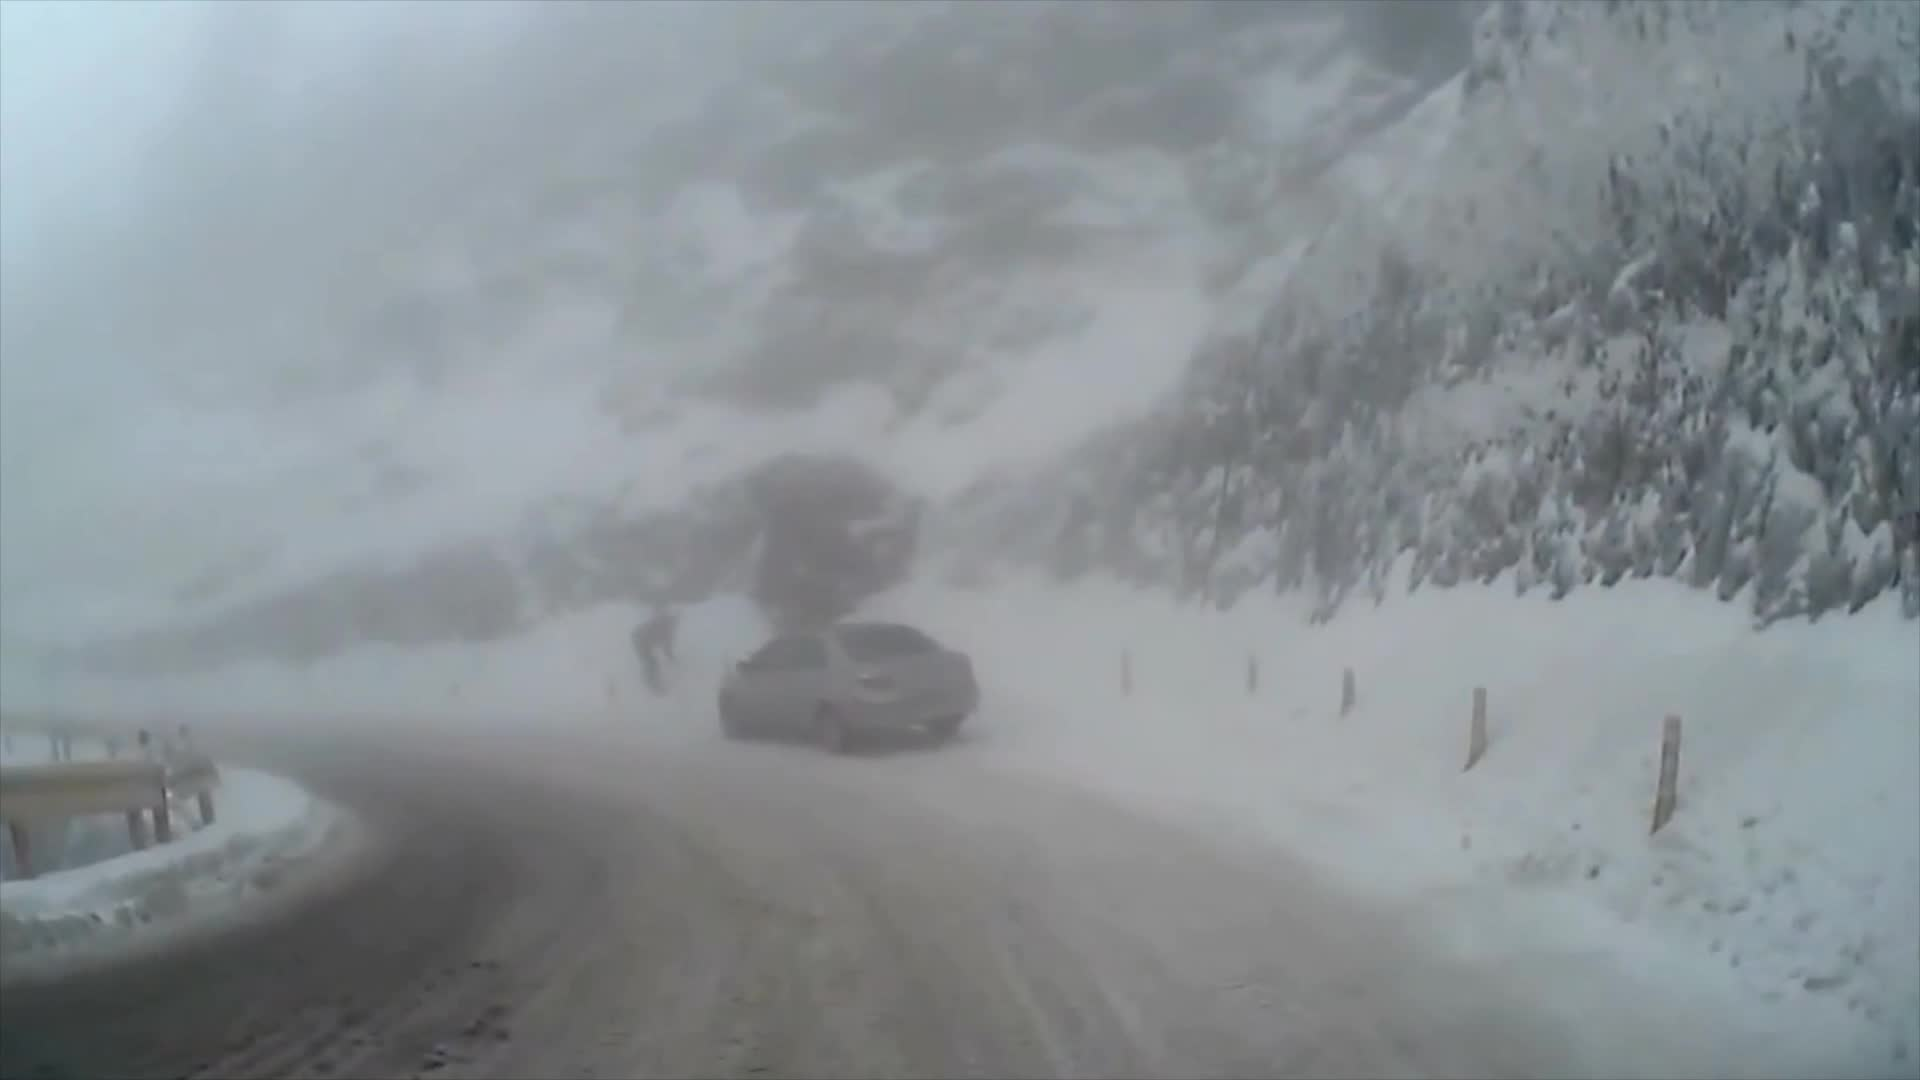pedestrian: (630, 612, 684, 695)
vehicle: (721, 618, 981, 748)
